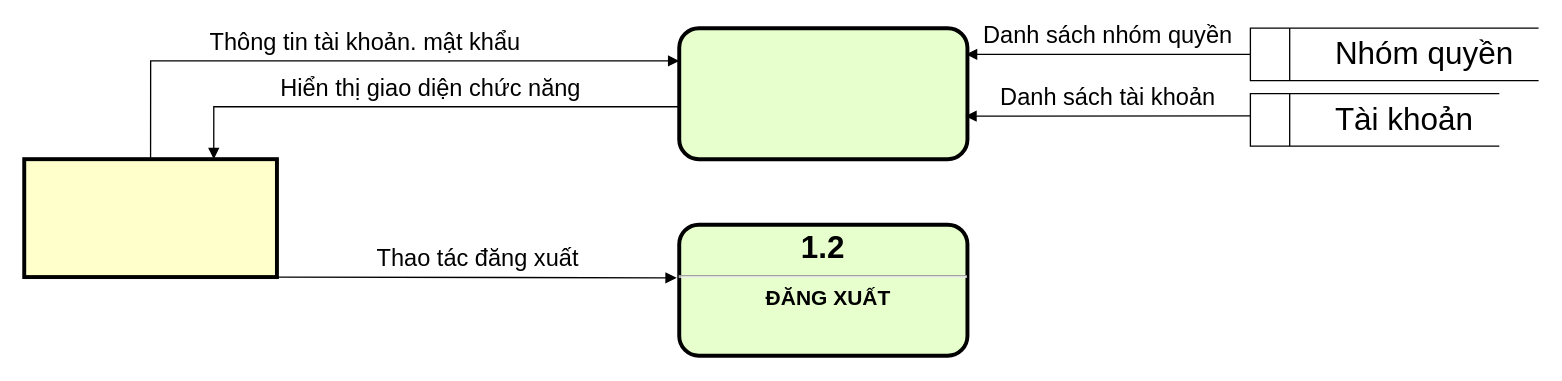
The diagram is 1562 pixels wide and 381 high, and some of its shapes have lost their labels. Here are the shapes that lost their labels. From the top down, the centre of each, then its label:
At [823,93]: "1.1 ĐĂNG NHẬP".
At [150,217]: "NGƯỜI DÙNG".
